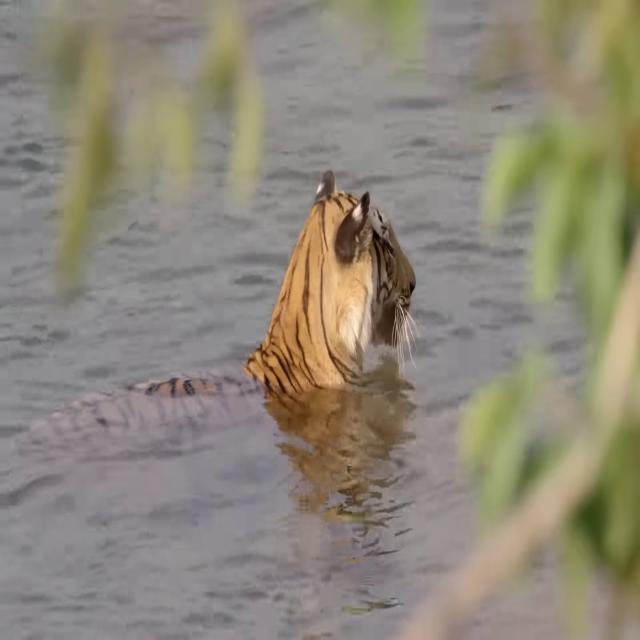tiger: (56, 168, 416, 444)
